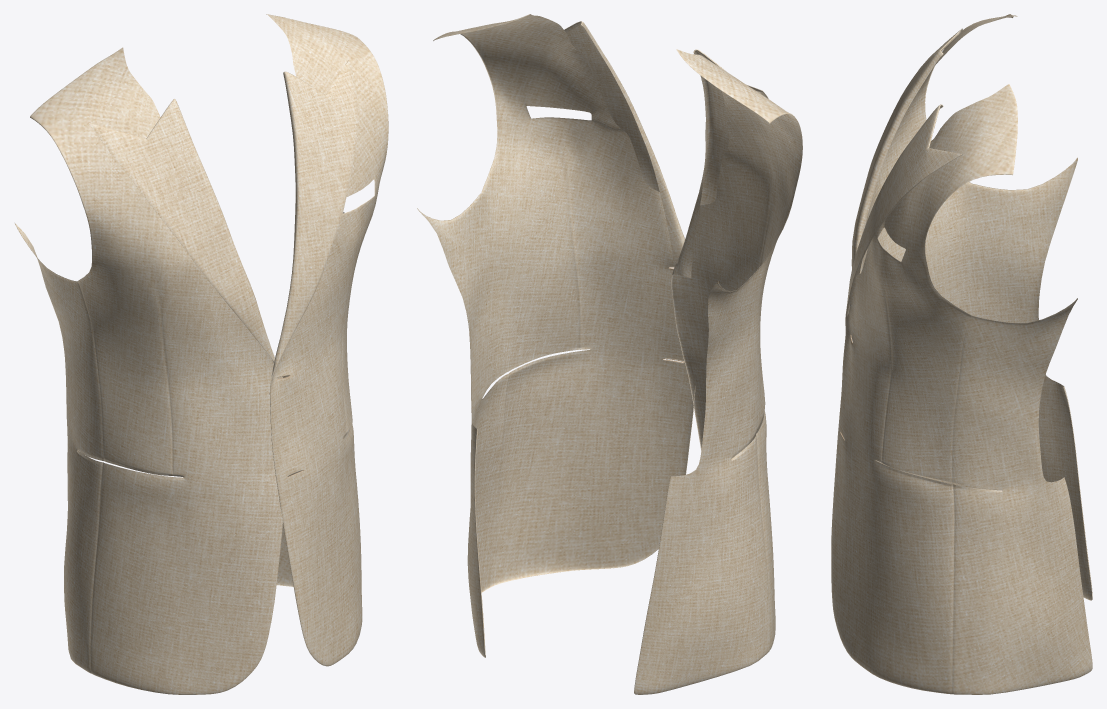
The model's file is Peak_Double_Button.glb.
The picture shows the model from 3 angles, left to right: view 1: azimuth 30°, elevation 25°; view 2: azimuth 150°, elevation 25°; view 3: azimuth 270°, elevation 25°; orthographic projection. The views are drawn at different scales.
Parts seen in each view (by area): view 1: peak_double_button1; view 2: peak_double_button1; view 3: peak_double_button1.
Boxes of the visible parts, x1=… form: peak_double_button1: x1=15, y1=14, x2=388, y2=694; peak_double_button1: x1=417, y1=14, x2=802, y2=694; peak_double_button1: x1=831, y1=14, x2=1092, y2=694.
Bounding box in the file's own units: 0.0585 × 0.102 × 0.0411.
Materials: 2 (1 with a texture image).
